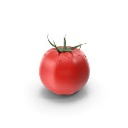tomato: (40, 48, 89, 97)
